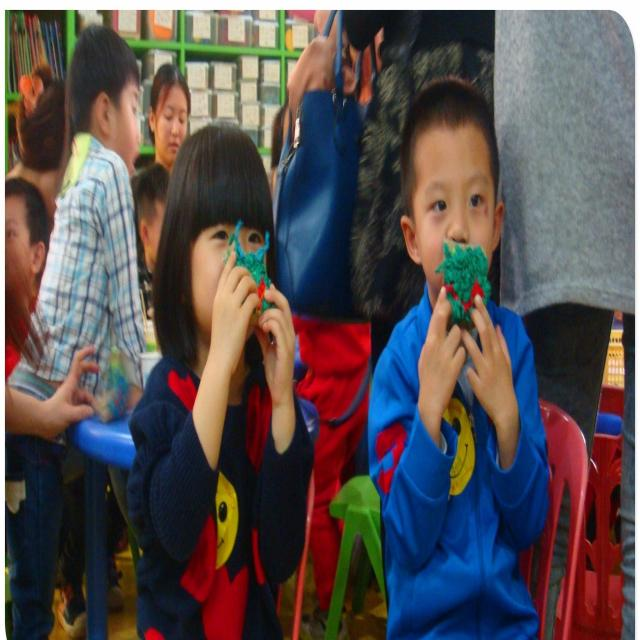nomask: (416, 121, 492, 304), (192, 204, 265, 347), (157, 92, 189, 162), (4, 208, 28, 297)
